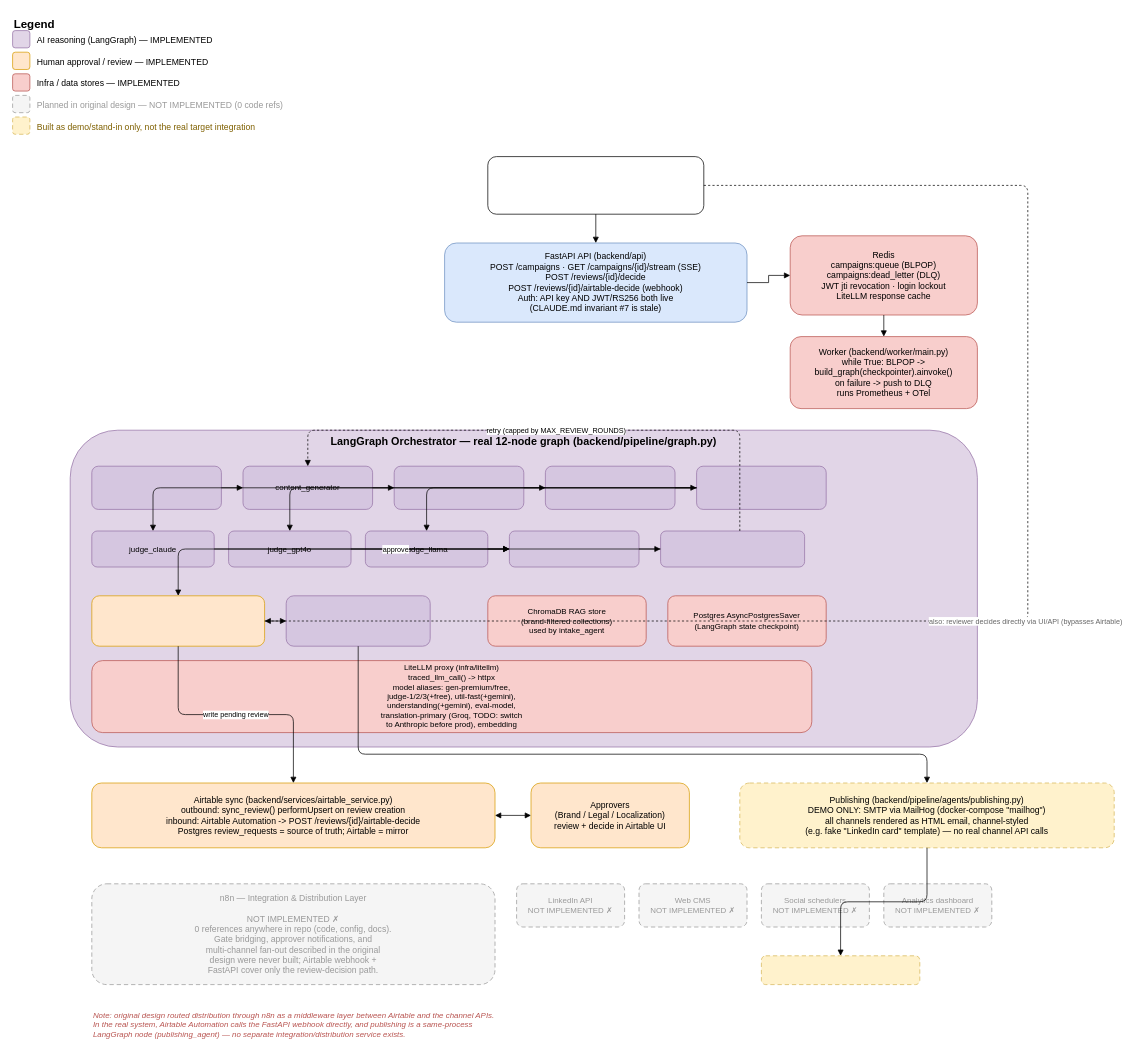
This 1135x1054 diagram has some shape labels left out. Here are the shapes that lost their labels. From the top down, the centre of each, then its label:
pixel 595 185: Requester + Reviewer UI (Astro + React frontend) api.js -> FastAPI directly
pixel 156 487: intake_agent (brief parsing, RAG retrieval)
pixel 458 487: personalization_agent
pixel 610 487: translation_agent
pixel 761 487: judge_gate / judge_planner (panel sizing)
pixel 574 548: confidence_aggregator
pixel 732 548: reflexion (self-correction / quality gate)
pixel 178 620: review_gate interrupt_before=["review_gate"] LangGraph checkpoint pause/resume
pixel 357 620: publishing_agent (see Publishing box below)
pixel 840 970: MailHog\n(actual SMTP sink, port 8025)
